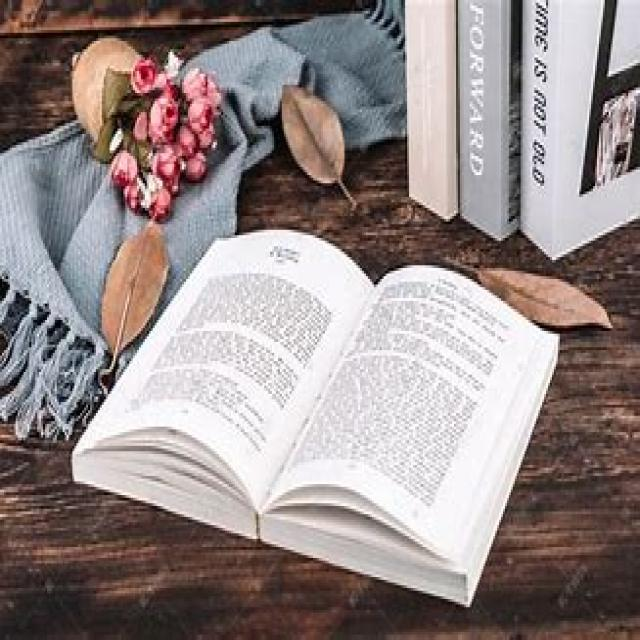pen: (68, 192, 573, 619)
